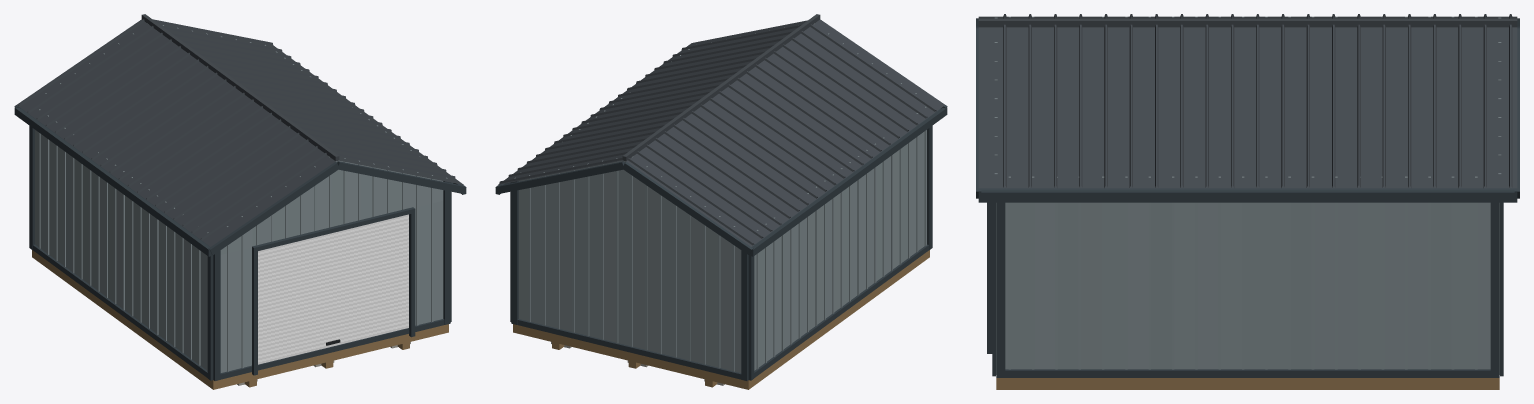
File: 13-metal-shed.glb
The picture shows the model from 3 angles, left to right: view 1: azimuth 30°, elevation 25°; view 2: azimuth 150°, elevation 25°; view 3: azimuth 270°, elevation 25°; orthographic projection. The views are drawn at different scales.
Visible parts, largest first — view 1: Main roof, left wall, front wall roll, front wall, Floor platform and skids; view 2: Main roof, rear wall, left wall, Floor platform and skids; view 3: Main roof, right wall, Floor platform and skids, front wall, rear wall, front wall roll.
Boxes of the visible parts, bbox=[...] form: Main roof: bbox=[14, 14, 466, 256]; left wall: bbox=[29, 109, 213, 380]; front wall roll: bbox=[252, 207, 415, 375]; front wall: bbox=[213, 156, 450, 380]; Floor platform and skids: bbox=[32, 250, 448, 389]; Main roof: bbox=[495, 14, 947, 256]; rear wall: bbox=[511, 156, 748, 380]; left wall: bbox=[748, 106, 932, 380]; Floor platform and skids: bbox=[513, 250, 929, 389]; Main roof: bbox=[976, 14, 1519, 202]; right wall: bbox=[996, 176, 1499, 377]; Floor platform and skids: bbox=[996, 378, 1499, 389]; front wall: bbox=[992, 17, 997, 376]; rear wall: bbox=[1498, 17, 1503, 376]; front wall roll: bbox=[987, 202, 992, 353].
Size of the model in its own units: 4 by 3.23 by 5.27.
